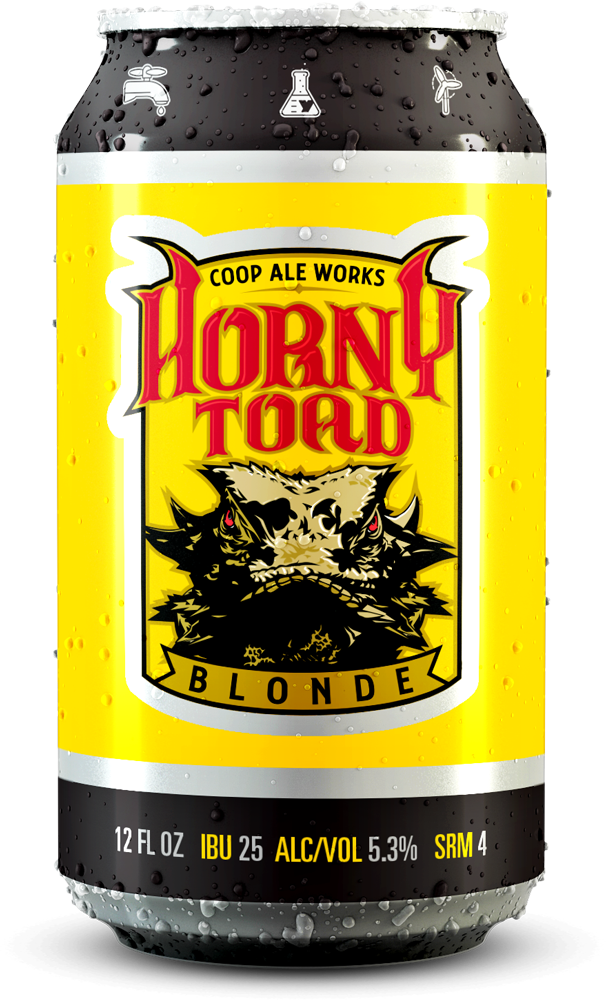beer can: (43, 5, 552, 989)
